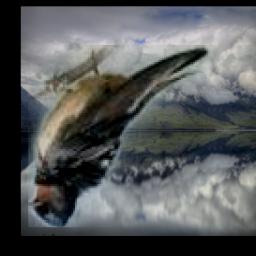Swallow: (27, 46, 253, 228)
